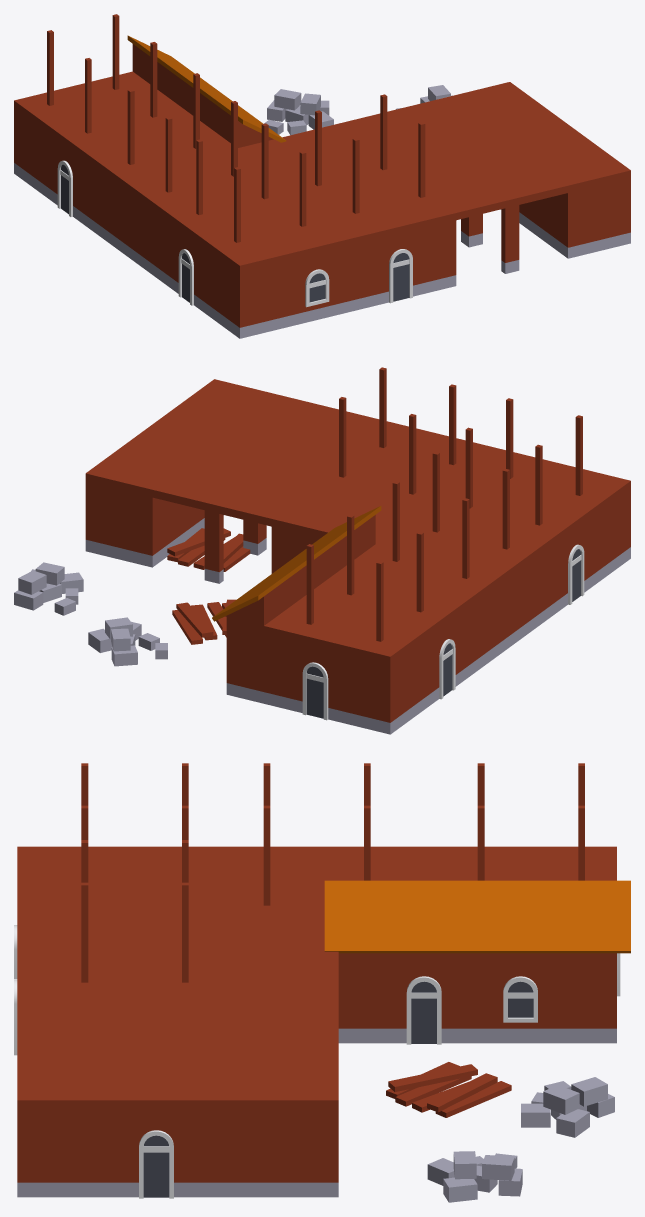
Rendered from Maison3_construct.fbx.
3 views of the same model, one above another, from view 1: azimuth 30°, elevation 25°; view 2: azimuth 150°, elevation 25°; view 3: azimuth 270°, elevation 25° (orthographic). The views are drawn at different scales.
Visible parts, largest first — view 1: block_491, block_columns_485, block_columns_488, block_columns_486, block_columns_487, roof_half_496, block_columns_489, block_columns_490, structure_poles_592, structure_poles_591, structure_poles_590, structure_poles_589 (+5 smaller); view 2: block_491, block_columns_487, block_columns_490, block_columns_486, block_columns_485, roof_half_496, block_columns_489, block_columns_488, structure_poles_592, structure_poles_590, structure_poles_589, debris_bricks_585 (+7 smaller); view 3: block_491, roof_half_496, block_columns_487, block_columns_485, block_columns_486, block_columns_490, block_columns_488, block_columns_489, debris_wood_587, debris_bricks_586, debris_bricks_585, door_rounded_495 (+6 smaller).
Part boxes in pixels (x1,y1,x2,y2): block_491: (14,71,393,338); block_columns_485: (465,141,630,273); block_columns_488: (359,168,519,296); block_columns_486: (425,111,590,244); block_columns_487: (387,82,549,141); roof_half_496: (127,35,286,147); block_columns_489: (313,143,478,197); block_columns_490: (273,109,418,168); structure_poles_592: (315,94,425,213); structure_poles_591: (196,123,306,242); structure_poles_590: (47,14,157,133); structure_poles_589: (127,73,237,192); block_491: (226,442,630,734); block_columns_487: (85,442,262,583); block_columns_490: (204,471,380,583); block_columns_486: (129,410,304,552); block_columns_485: (172,379,346,442); roof_half_496: (212,506,381,625); block_columns_489: (248,440,423,503); block_columns_488: (291,408,465,472); structure_poles_592: (339,367,456,494); structure_poles_590: (306,514,423,641); structure_poles_589: (392,451,509,578); debris_bricks_585: (14,562,83,615); block_491: (17,846,616,1043); roof_half_496: (324,880,630,953); block_columns_487: (231,1027,338,1197); block_columns_485: (17,1027,124,1197); block_columns_486: (124,1027,231,1197); block_columns_490: (231,946,338,1027); block_columns_488: (17,946,124,1027); block_columns_489: (124,946,231,1027); debris_wood_587: (386,1062,511,1117); debris_bricks_586: (521,1077,614,1137); debris_bricks_585: (427,1151,522,1202); door_rounded_495: (406,976,441,1044).
Size of the model in its own units: 57.51 by 20 by 57.6.
